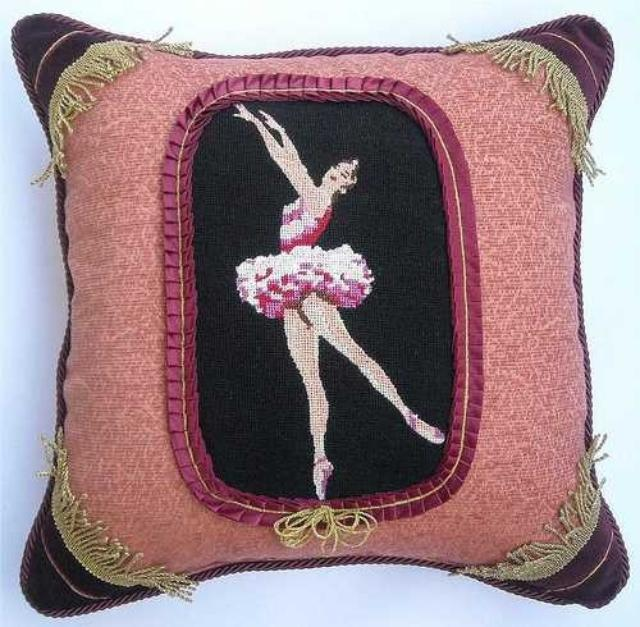pillow: (10, 10, 628, 616)
